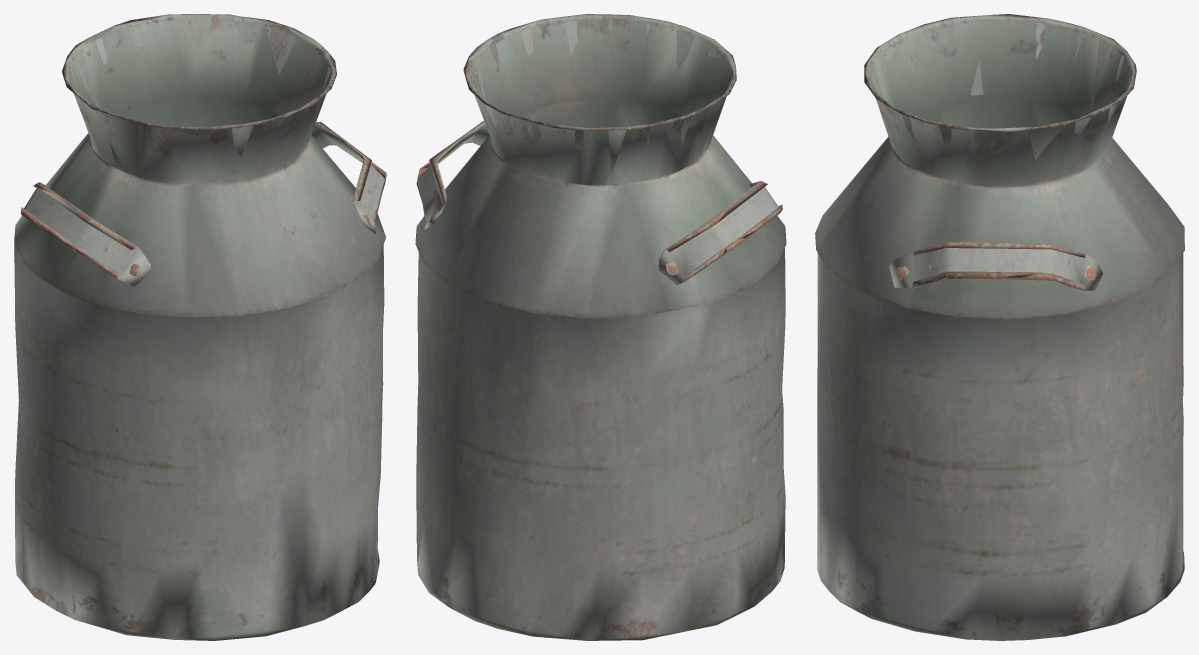
File: MetalJugLOD1.fbx
The picture shows the model from 3 angles, left to right: view 1: azimuth 30°, elevation 25°; view 2: azimuth 150°, elevation 25°; view 3: azimuth 270°, elevation 25°; orthographic projection.
Parts seen in each view (by area): view 1: metal_jug; view 2: metal_jug; view 3: metal_jug.
Part boxes in pixels (x1,y1,x2,y2): metal_jug: [14, 14, 386, 640]; metal_jug: [415, 14, 786, 640]; metal_jug: [815, 14, 1184, 640].
Bounding box in the file's own units: 19.66 × 28.74 × 19.53.
Materials: 1 (1 with a texture image).
